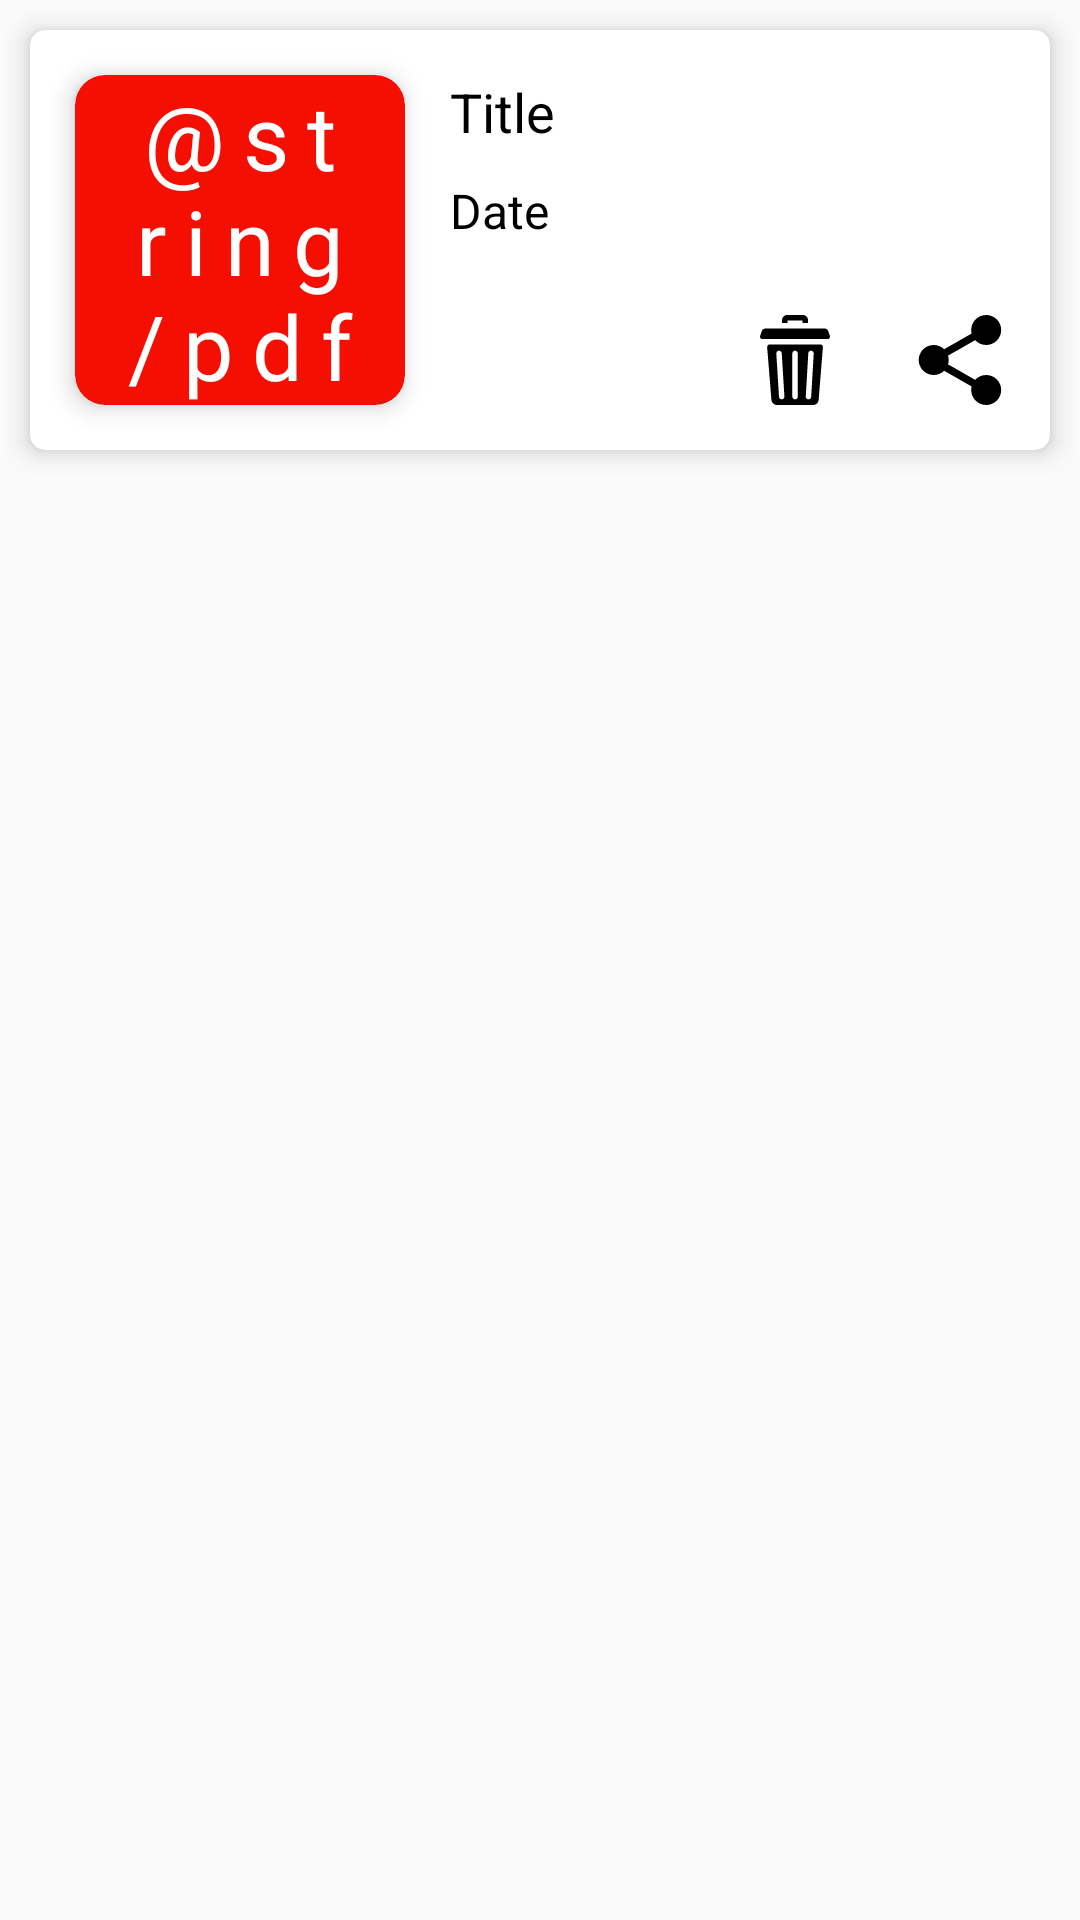

Where to tap for icons on this 1080 x 1920 app screen, as (x,y):
delete: (795,360)
share: (960,360)
